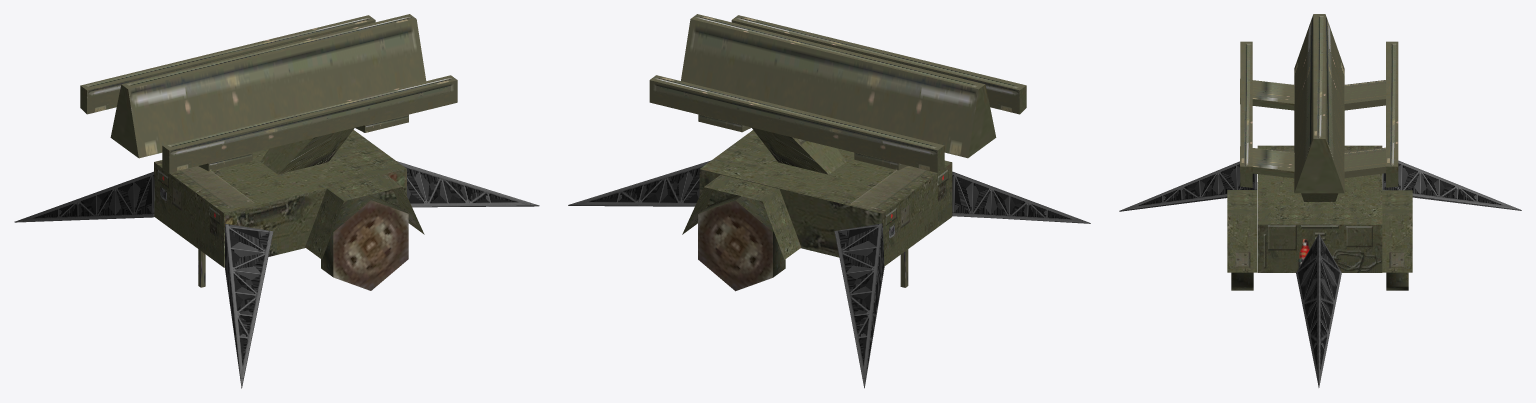
The model's file is IHAWK_Launcher.fbx.
3 renders of one model, left to right at view 1: azimuth 30°, elevation 25°; view 2: azimuth 150°, elevation 25°; view 3: azimuth 270°, elevation 25°, orthographic. The views are drawn at different scales.
Parts seen in each view (by area): view 1: rot_ver, main, opory, rot_hor; view 2: rot_ver, main, opory, rot_hor; view 3: main, rot_ver, opory.
Boxes of the visible parts, x1,y1,x2,y2 form: rot_ver: [80, 14, 457, 172]; main: [154, 130, 424, 290]; opory: [14, 161, 539, 388]; rot_hor: [260, 128, 354, 174]; rot_ver: [649, 14, 1026, 172]; main: [682, 130, 952, 291]; opory: [568, 160, 1090, 388]; rot_hor: [752, 127, 846, 174]; main: [1227, 145, 1412, 290]; rot_ver: [1240, 14, 1398, 193]; opory: [1119, 160, 1521, 387].
Bounding box in the file's own units: 478 × 243 × 452.
